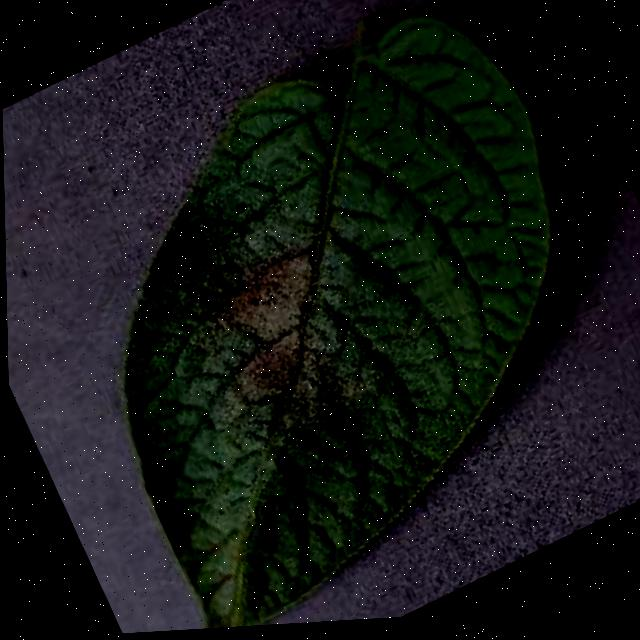Late_blight: (161, 205, 391, 462)
